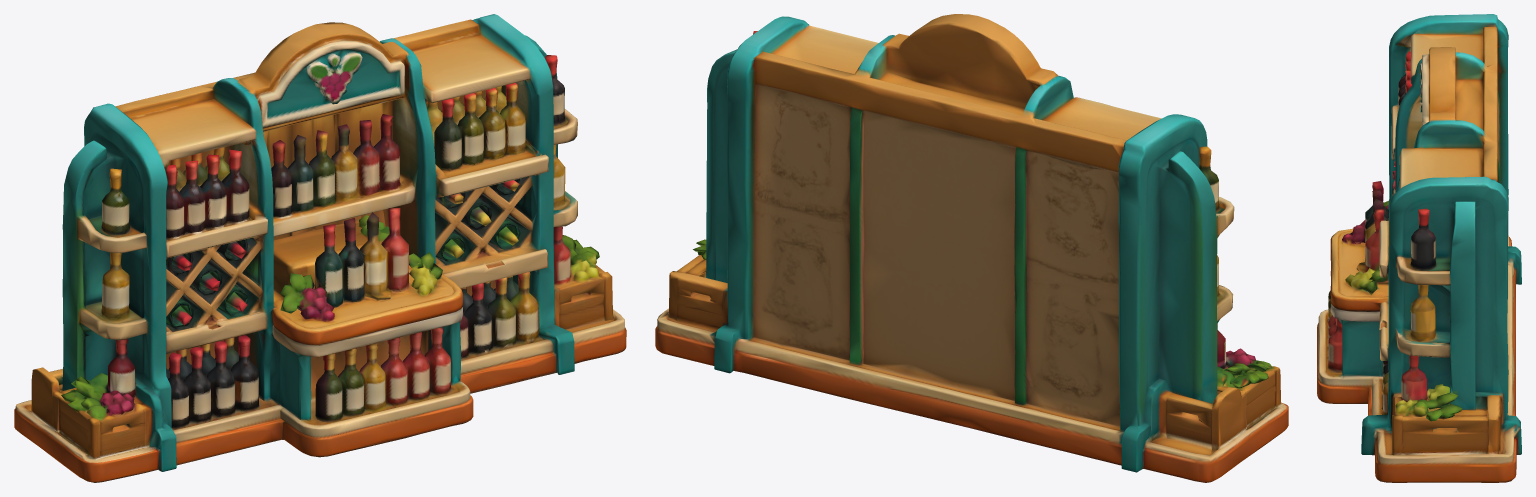
Rendered from WineRack.glb.
3 views of the same model, side by side, from view 1: azimuth 30°, elevation 25°; view 2: azimuth 150°, elevation 25°; view 3: azimuth 270°, elevation 25° (orthographic). The views are drawn at different scales.
Visible parts, largest first — view 1: tripo_node_88d93a00-5825-45cf-8bc9-7f0aeecccbde; view 2: tripo_node_88d93a00-5825-45cf-8bc9-7f0aeecccbde; view 3: tripo_node_88d93a00-5825-45cf-8bc9-7f0aeecccbde.
Part boxes in pixels (box(x1,y1,x2,y2)): tripo_node_88d93a00-5825-45cf-8bc9-7f0aeecccbde: box(14, 14, 626, 482); tripo_node_88d93a00-5825-45cf-8bc9-7f0aeecccbde: box(655, 14, 1288, 482); tripo_node_88d93a00-5825-45cf-8bc9-7f0aeecccbde: box(1317, 14, 1521, 482).
Bounding box in the file's own units: 0.9803 × 0.6136 × 0.3632.
Materials: 1 (1 with a texture image).
